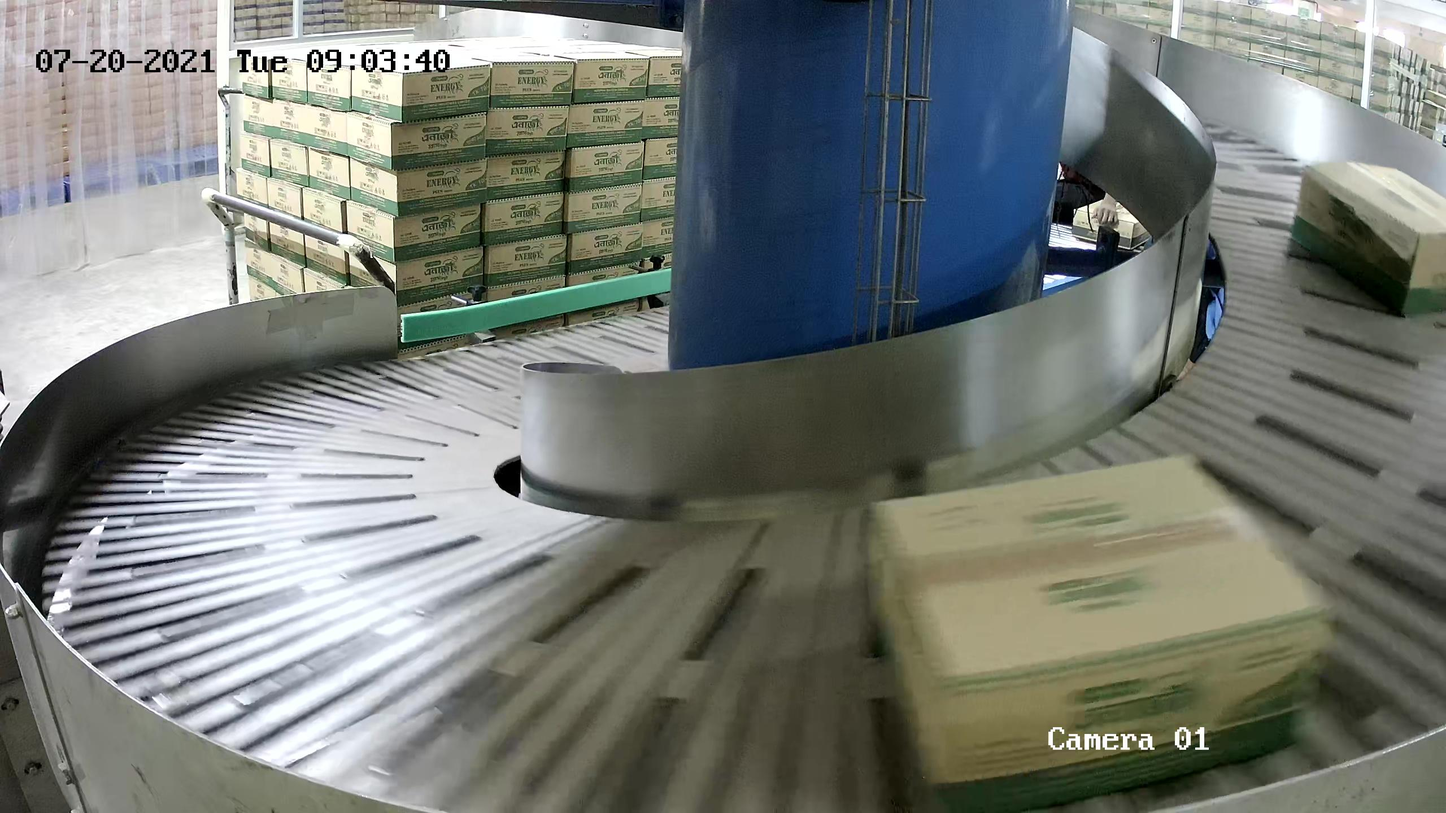Box: (859, 449, 1338, 813), (1289, 159, 1446, 316)
